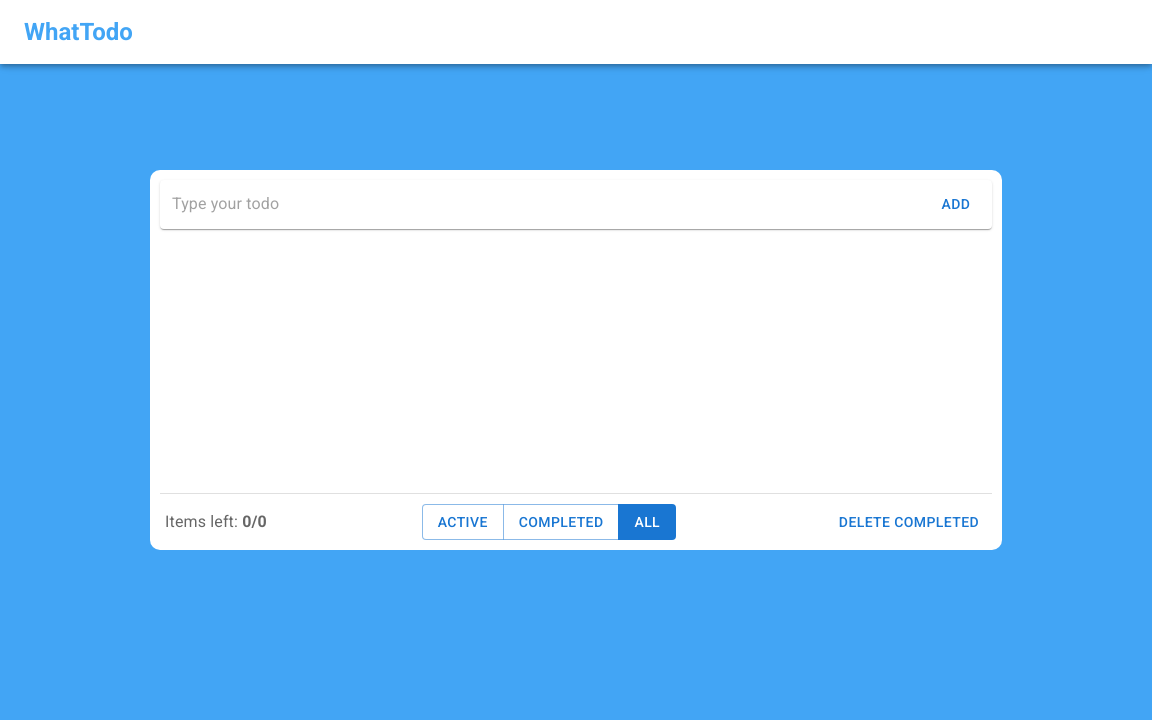
Scenario: TodoList with AddTodoField integration tests › should render several todos in TodoList when user input in AddTodoField several times
Type "Write test №1" into the field with placeholder "Type your todo".
click(548, 204); type("Write test №1")  # box [172, 188, 924, 220]
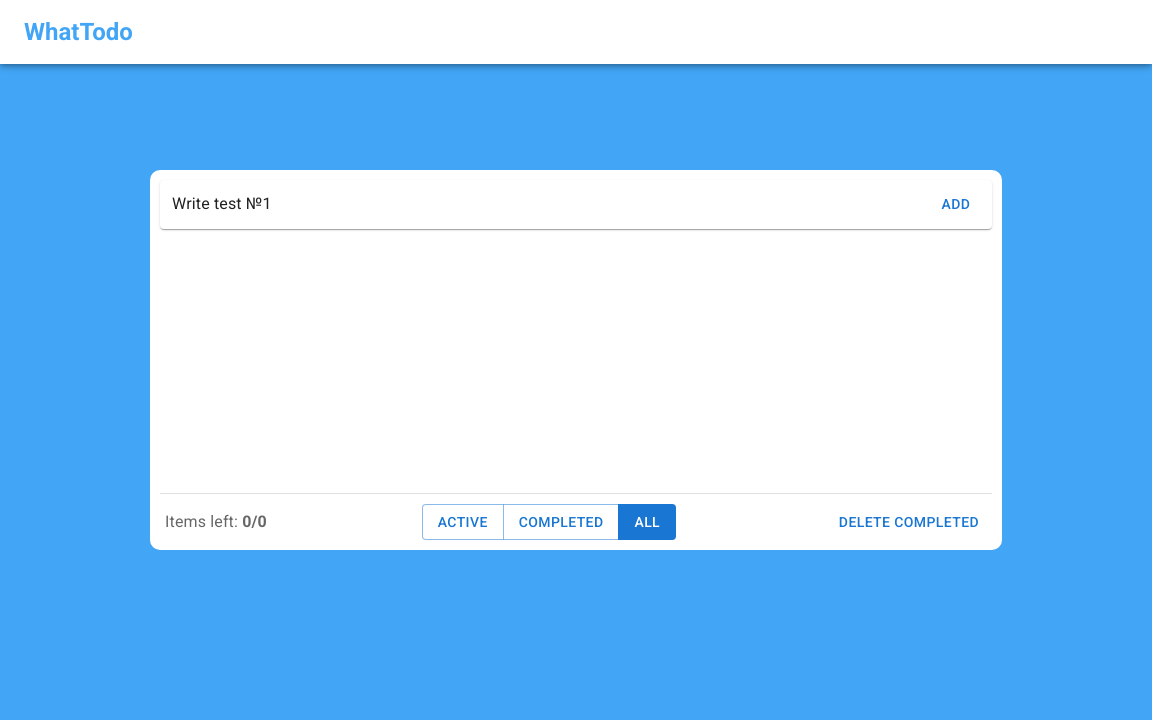
Click the button "Add".
click(956, 204)  # box [924, 182, 988, 226]
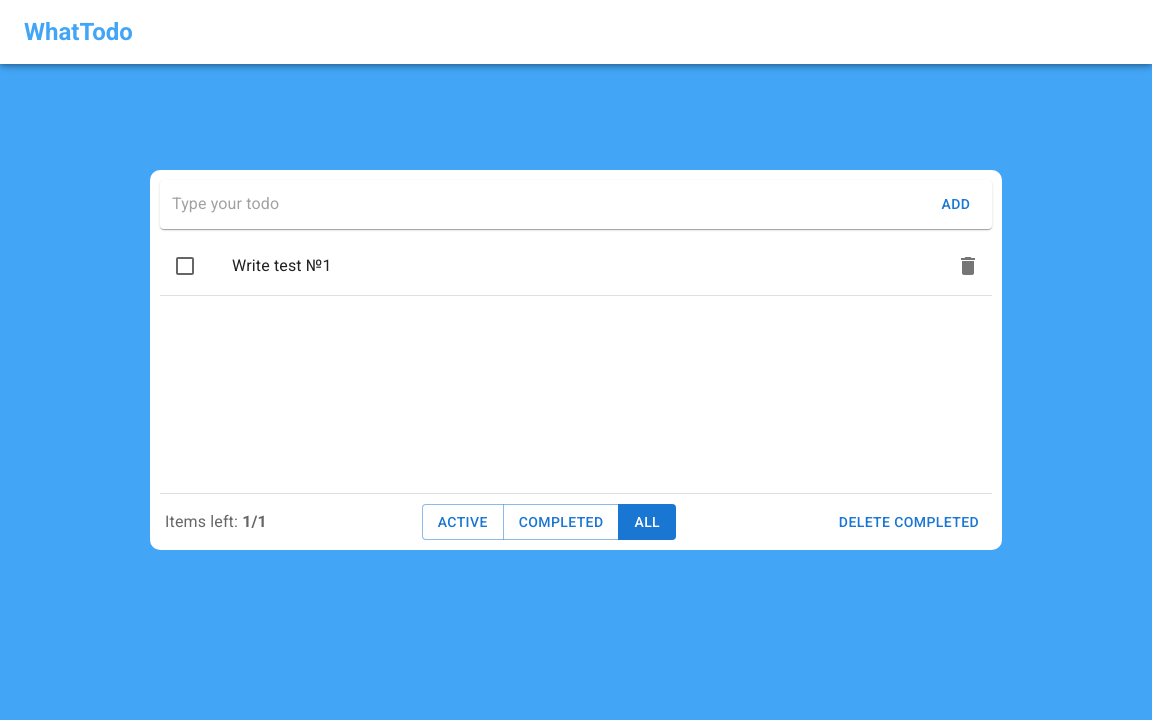
Type "Write test №2" into the field with placeholder "Type your todo".
click(548, 204); type("Write test №2")  # box [172, 188, 924, 220]
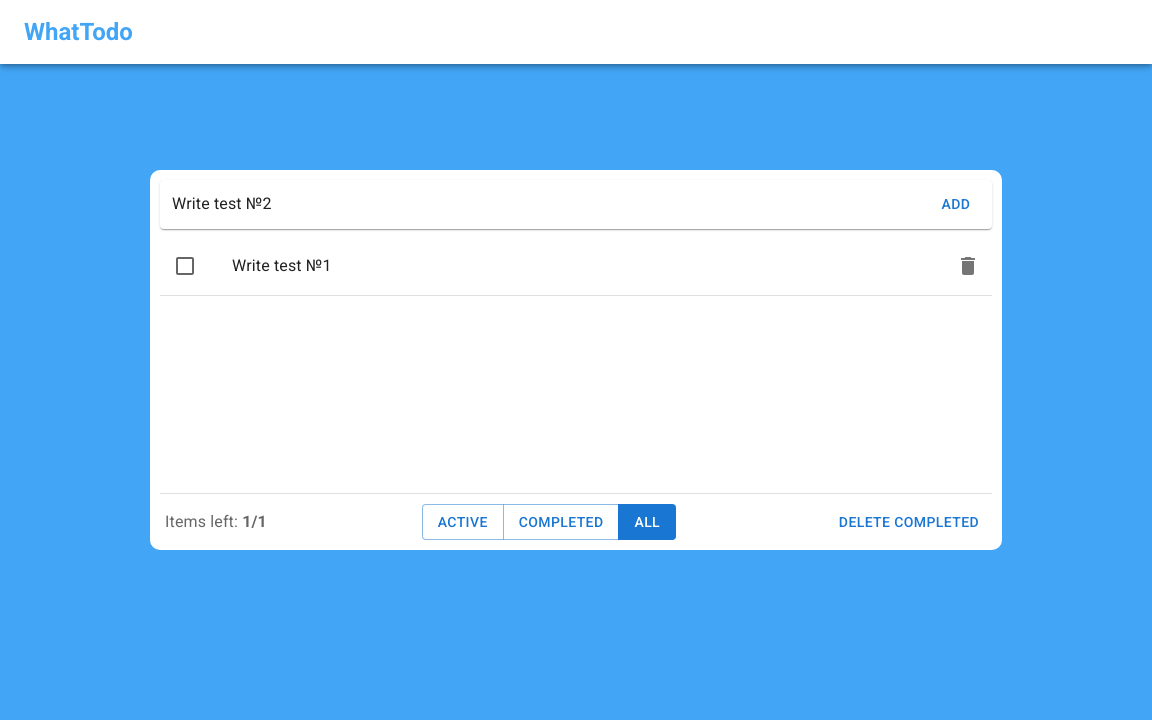
Click the button "Add".
click(956, 204)  # box [924, 182, 988, 226]
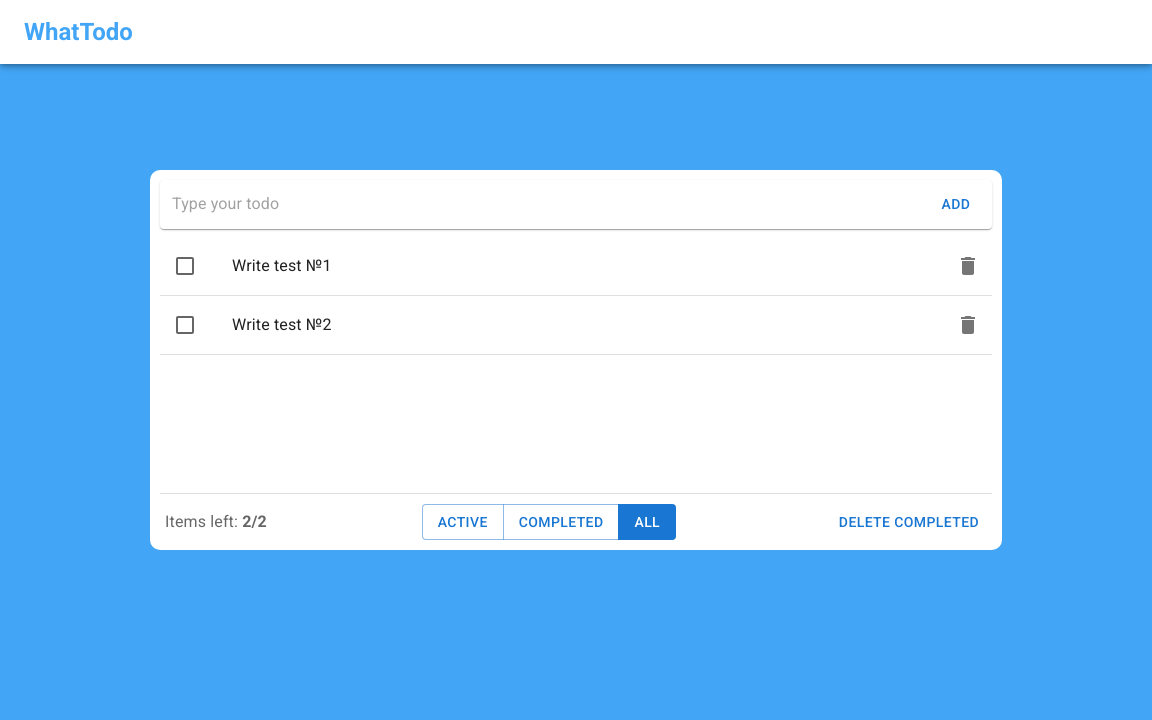
Type "Write test №3" into the field with placeholder "Type your todo".
click(548, 204); type("Write test №3")  # box [172, 188, 924, 220]
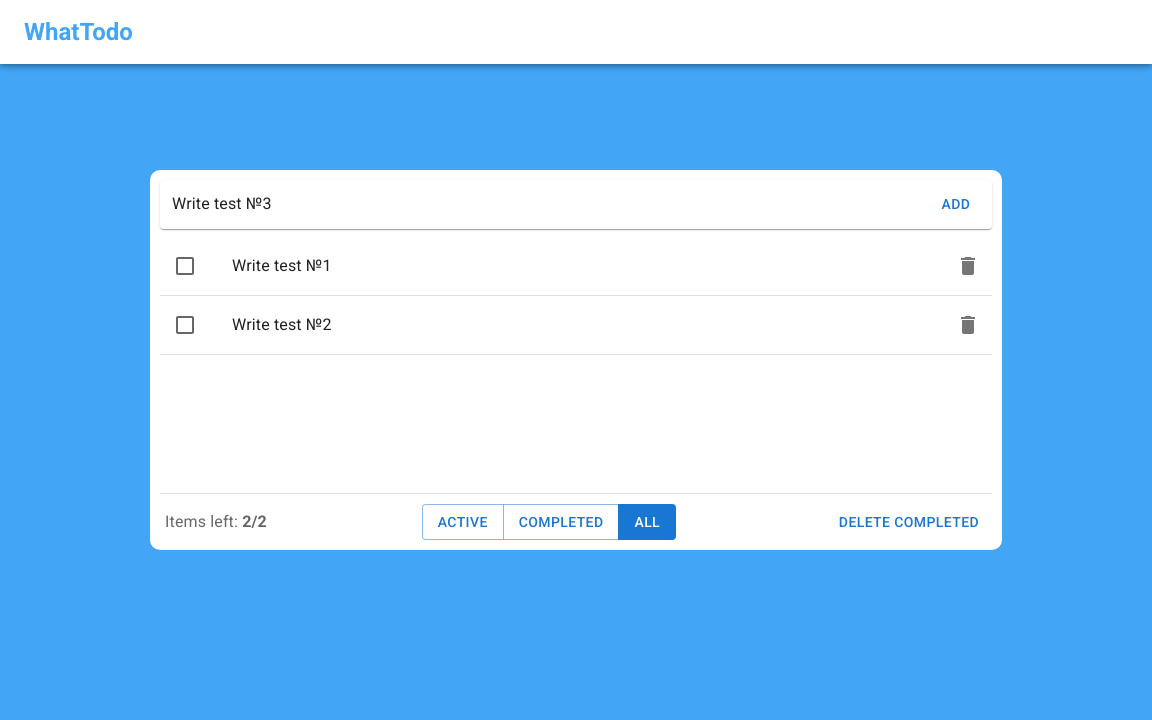
Click the button "Add".
click(956, 204)  # box [924, 182, 988, 226]
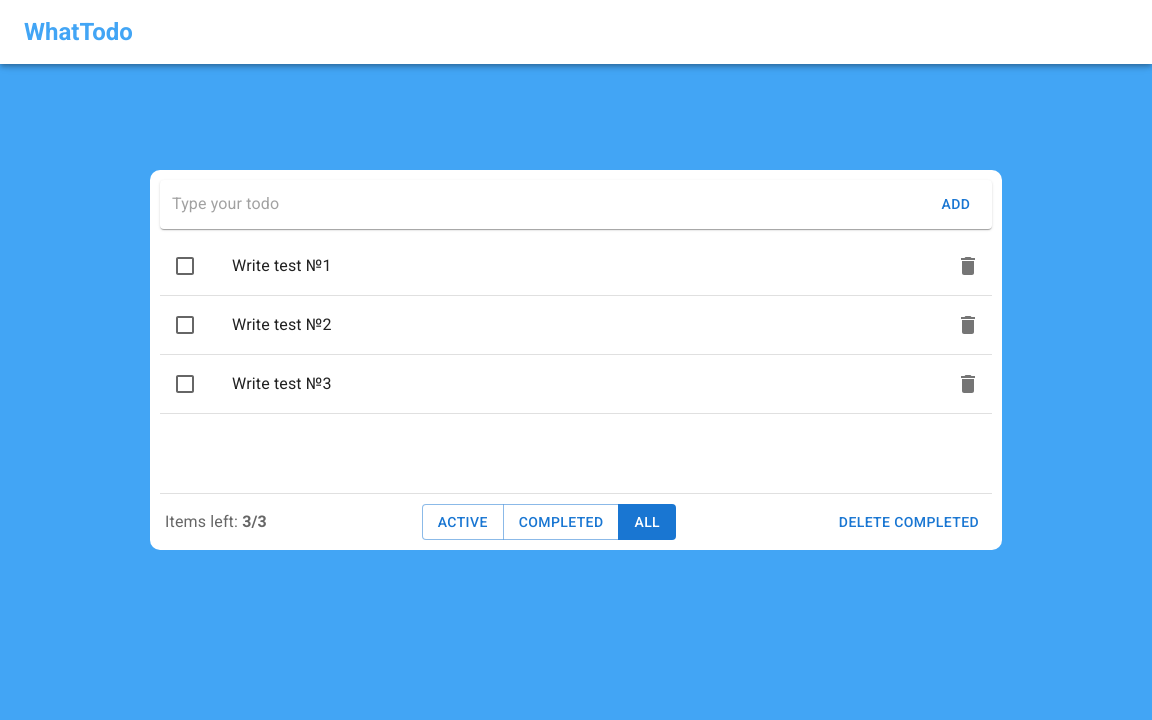
Expected: the 1st field showing "Write test №1" is shown, [232, 250, 944, 282]
Expected: the 2nd field showing "Write test №2" is shown, [232, 308, 944, 340]
Expected: the number of list items with test id "todo-item" is 3, [160, 236, 992, 294]; [160, 296, 992, 354]; [160, 354, 992, 412]
